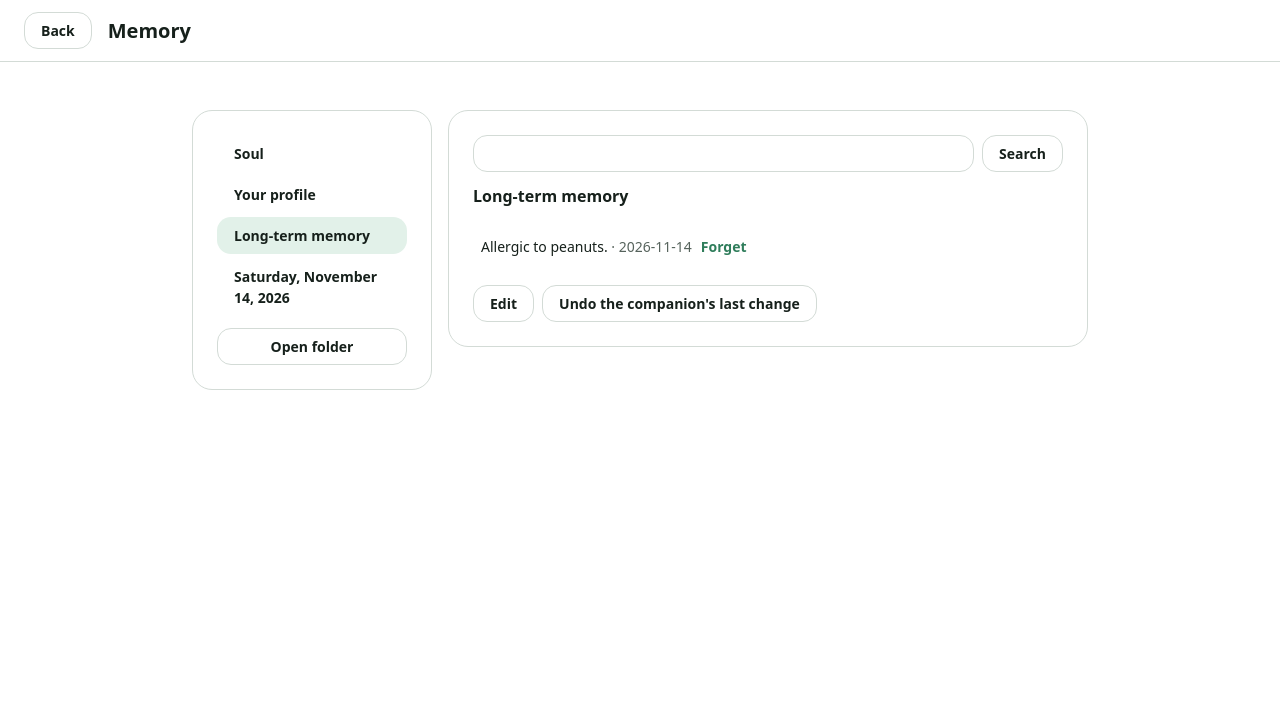
Test case: MemoryView forget › confirms, forgets the entry, and offers a fresh context while the companion may still see it
Later steps or results of the test are not shown.
Click the button with aria-label "Forget: Allergic to peanuts.". click: coordinates (724, 246)
box: [692,228,756,265]
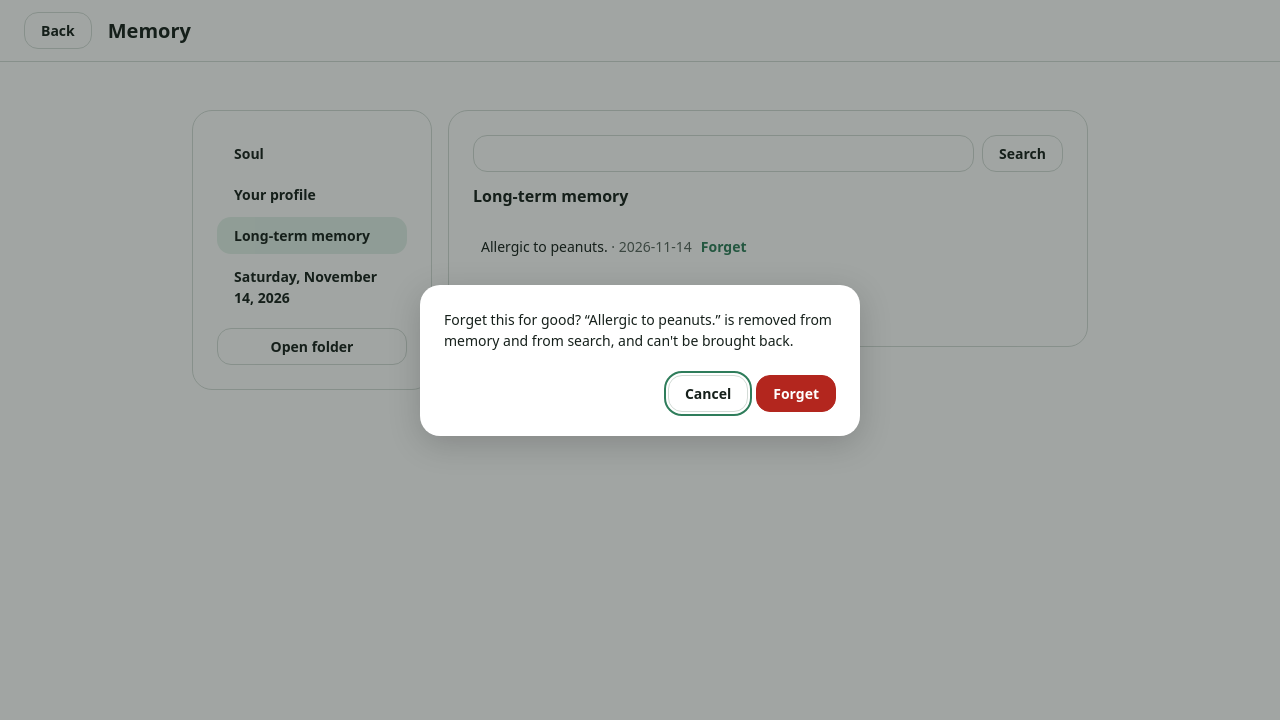
Now the dialog shows "“Allergic to peanuts.” is removed from memory", box [444,310,832,350]
Click the button "Cancel". click: coordinates (708, 393)
box: [668,374,748,412]
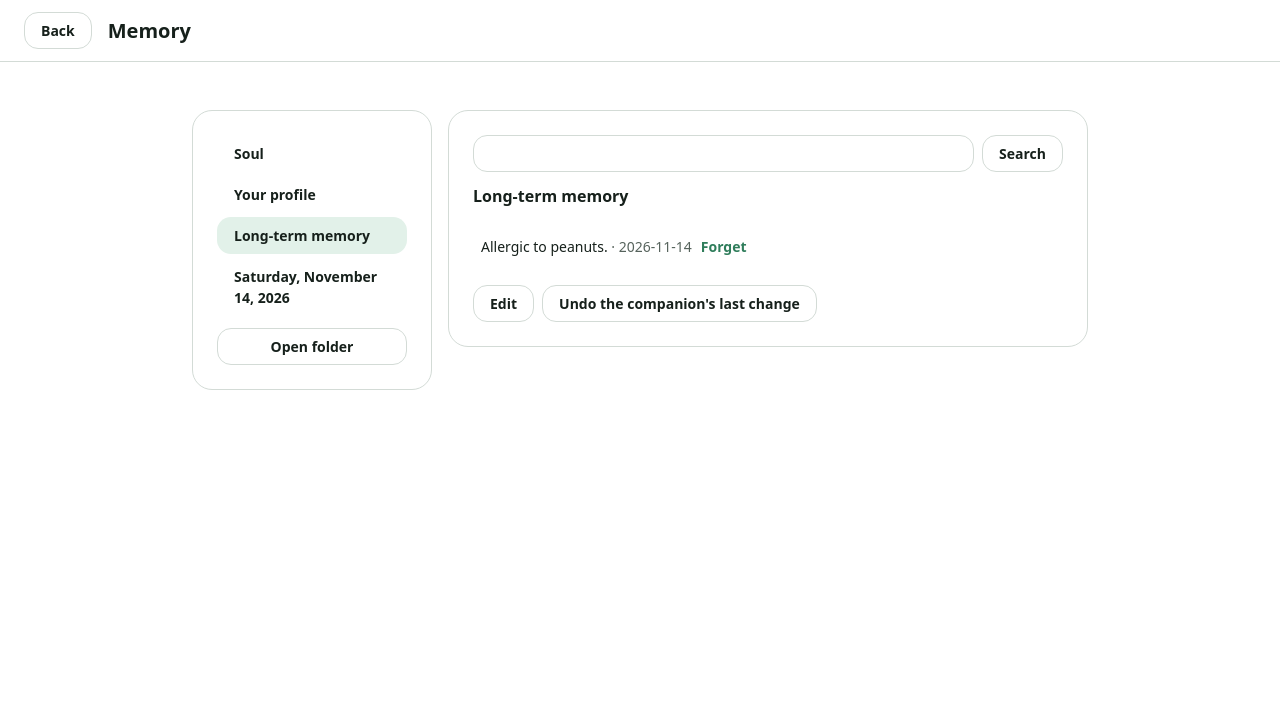
Click the button with aria-label "Forget: Allergic to peanuts.". click: coordinates (724, 246)
box: [692,228,756,265]
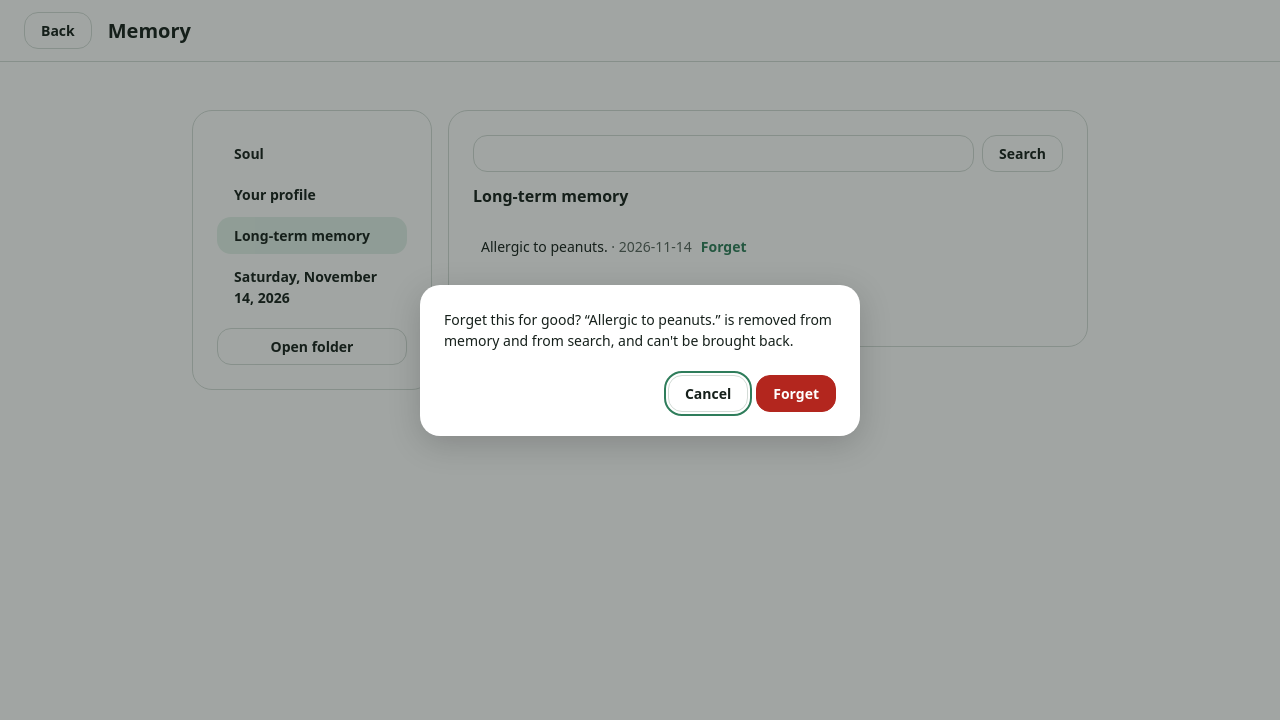
Click the button "Forget". click: coordinates (796, 393)
box: [756,374,836,412]
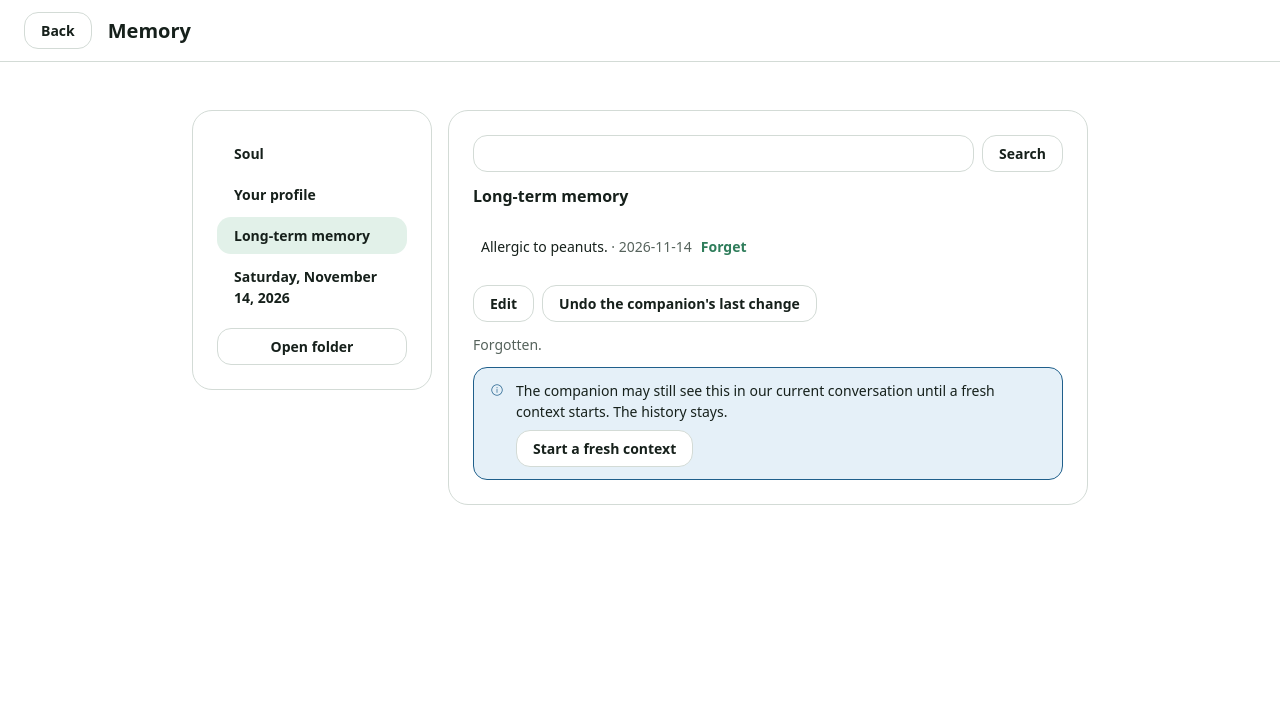
Now the text "may still see this" is shown, box [516,381,995,421]
